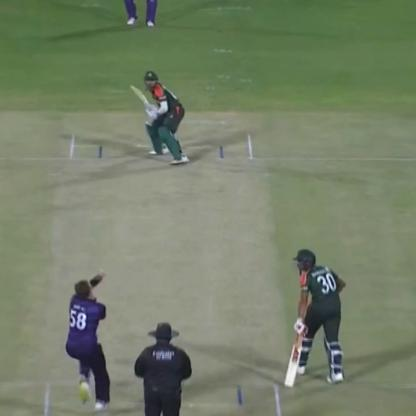bat: (281, 321, 308, 387), (122, 76, 156, 118)
pitch: (30, 126, 294, 415)
